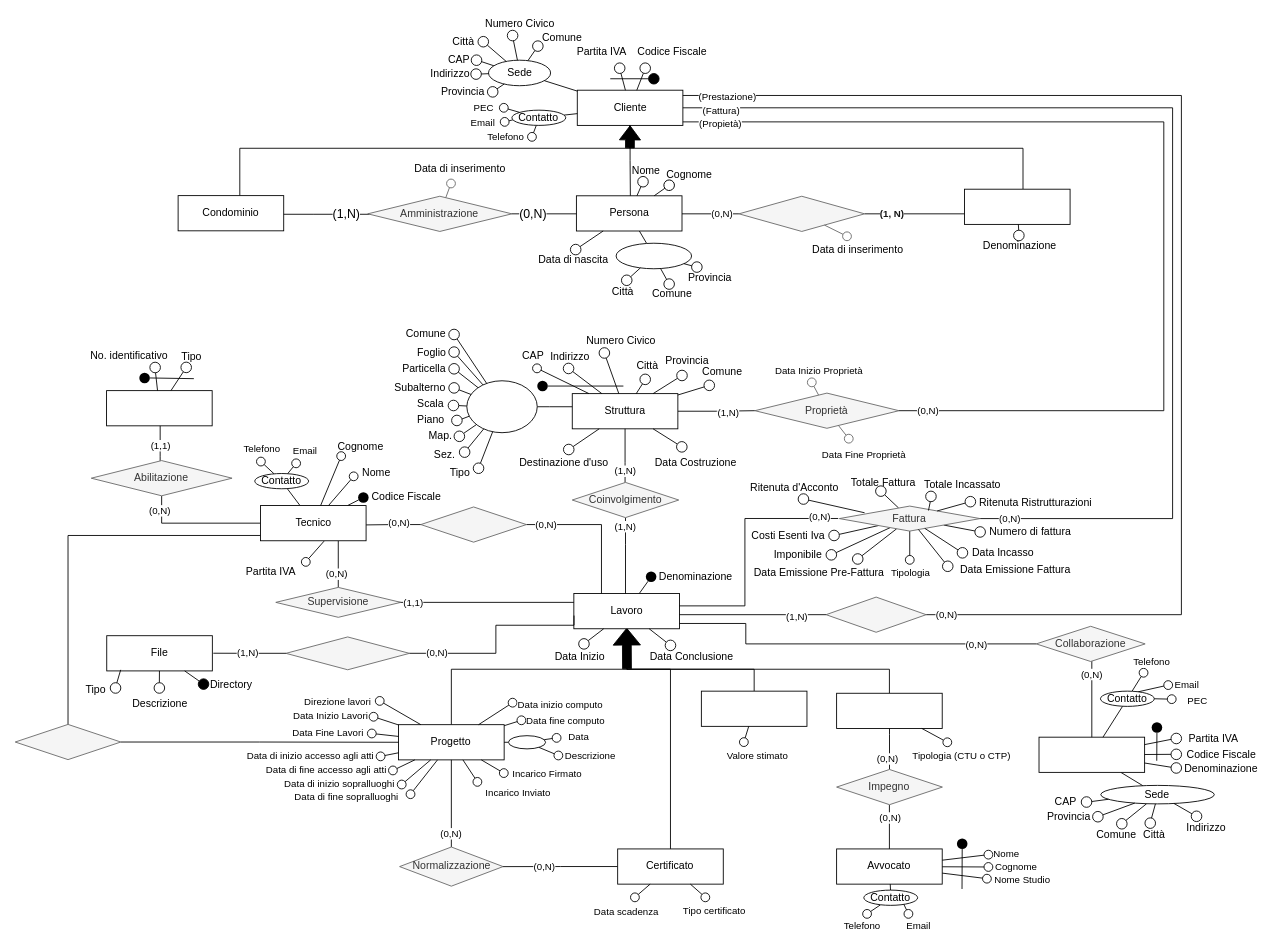
Image size: 1274x947. Some labels were removed from this diagram. Here are the shapes that lost their labels. From the top down, the centre of each, then its label:
[801,213]: Rappresentanza
[1017,206]: Impresa
[653,255]: Luogo di nascita
[159,408]: Attestato
[501,406]: Identificativo catastale
[473,524]: Partecipazione
[875,614]: Prestazione
[347,653]: Documentazione
[753,708]: Perizia
[889,710]: Consulenza Tecnica
[67,742]: Direzione
[527,742]: Fase
[1091,754]: Collaboratore
